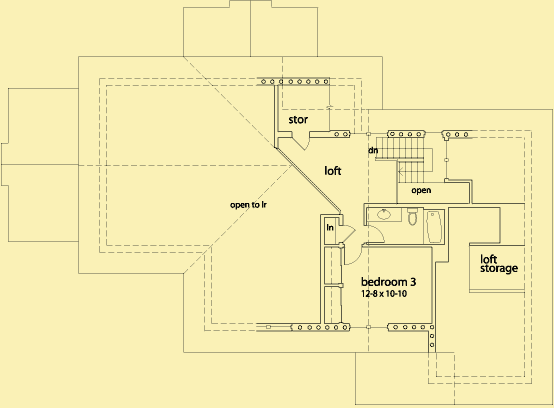door: (342, 245, 364, 268), (365, 223, 385, 244), (290, 135, 312, 154), (340, 222, 356, 245)
large_sink: (406, 206, 421, 227)
small_sink: (367, 205, 404, 225)
stairs: (367, 136, 437, 184)
tub: (421, 208, 448, 249)
